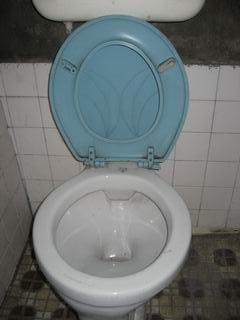toilet: (31, 15, 193, 320)
